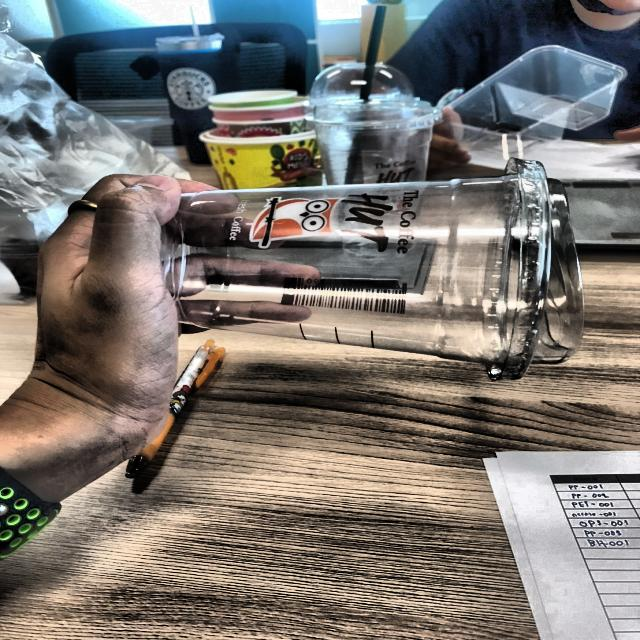plastic cup: (132, 150, 606, 408)
